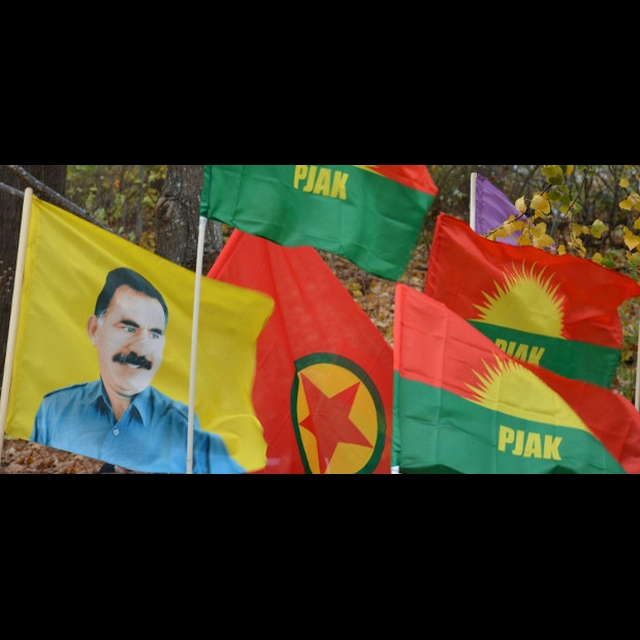APO: (70, 263, 184, 399)
PJAK: (445, 344, 598, 476), (465, 267, 582, 365)
PKK: (274, 337, 389, 477)
